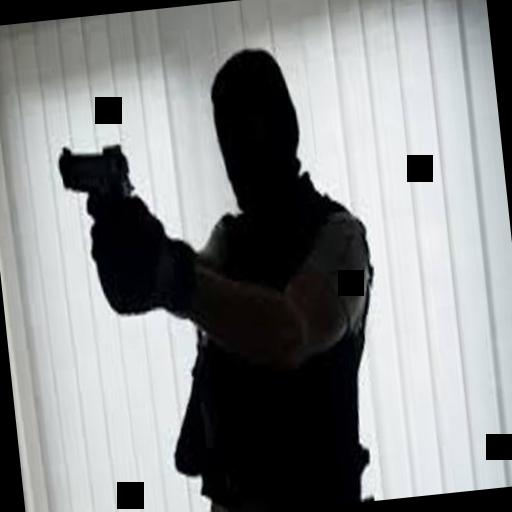Handgun: (48, 136, 146, 266)
